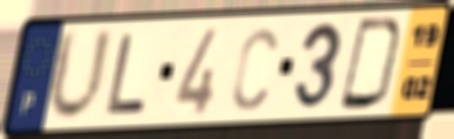3: (291, 19, 346, 112)
4: (172, 24, 220, 117)
C: (230, 24, 280, 113)
D: (336, 15, 407, 113)
L: (104, 31, 150, 118)
U: (45, 24, 117, 127)
